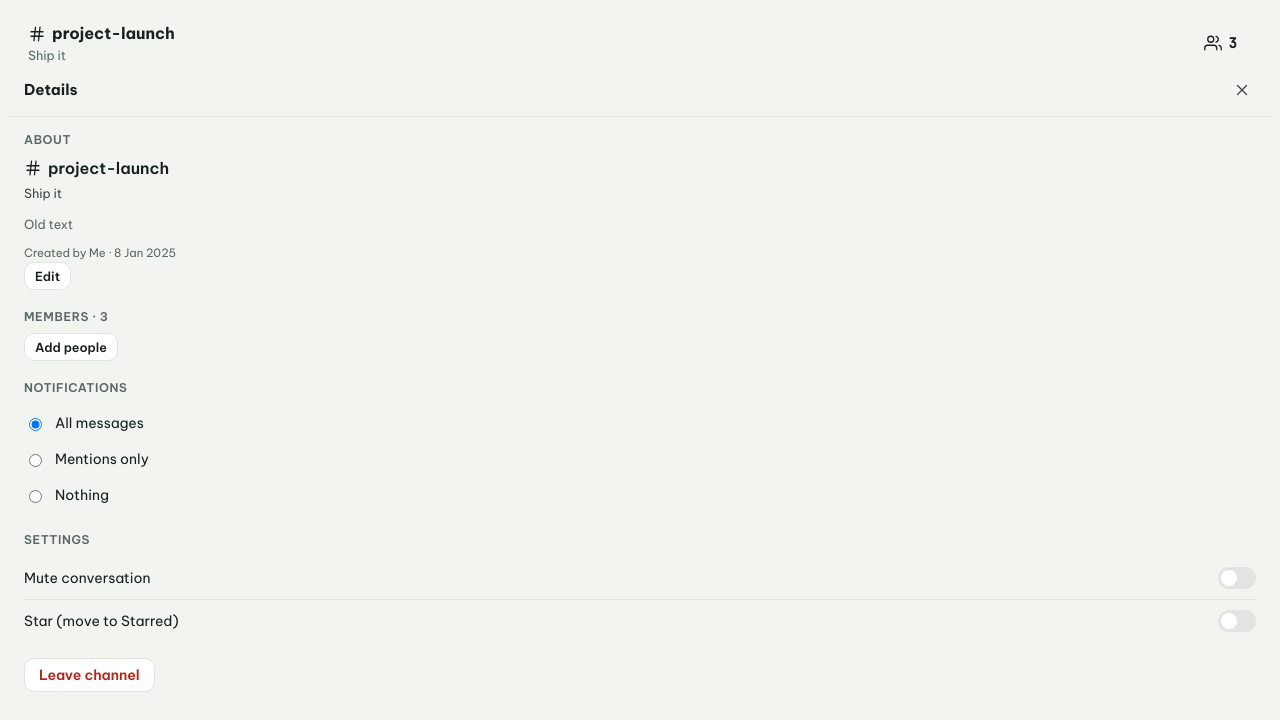
Test case: the form (R15) › Edit replaces the topic and the description by two labelled fields filled with the current text; Save is disabled
Click the button "Edit" at (48, 276), box [24,262,71,290]
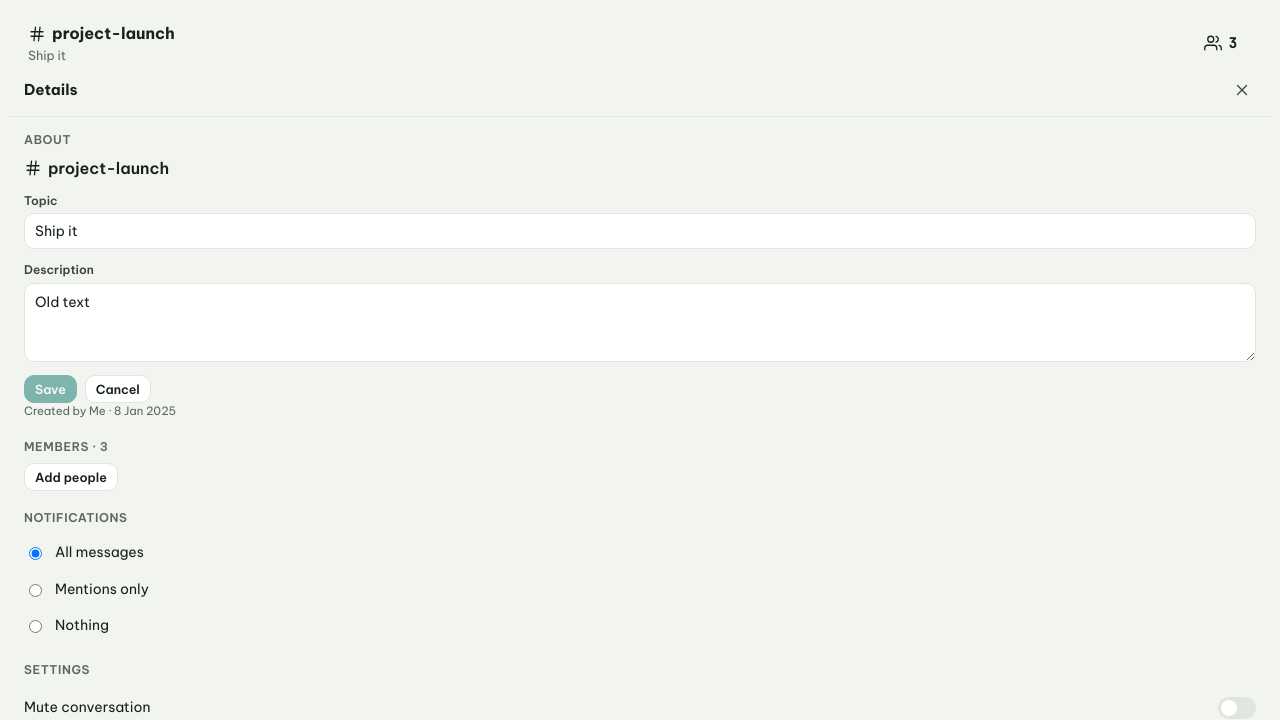
Expected: the field labelled "Topic" holds "Ship it", [24,213,1256,249]
Expected: the text box labelled "Description" holds "Old text", [24,283,1256,362]
Expected: the button "Save" is disabled, [24,375,77,403]
